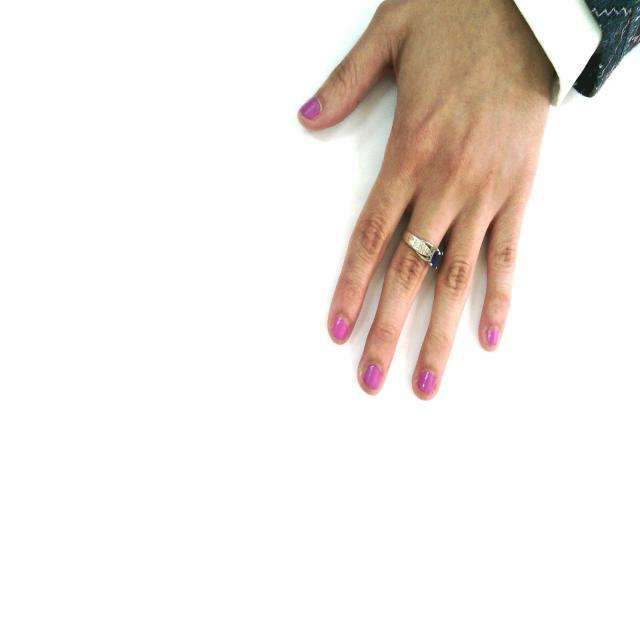Fingernail: (301, 94, 321, 118), (364, 364, 382, 388), (417, 371, 435, 395), (333, 316, 348, 343), (486, 326, 500, 346)
